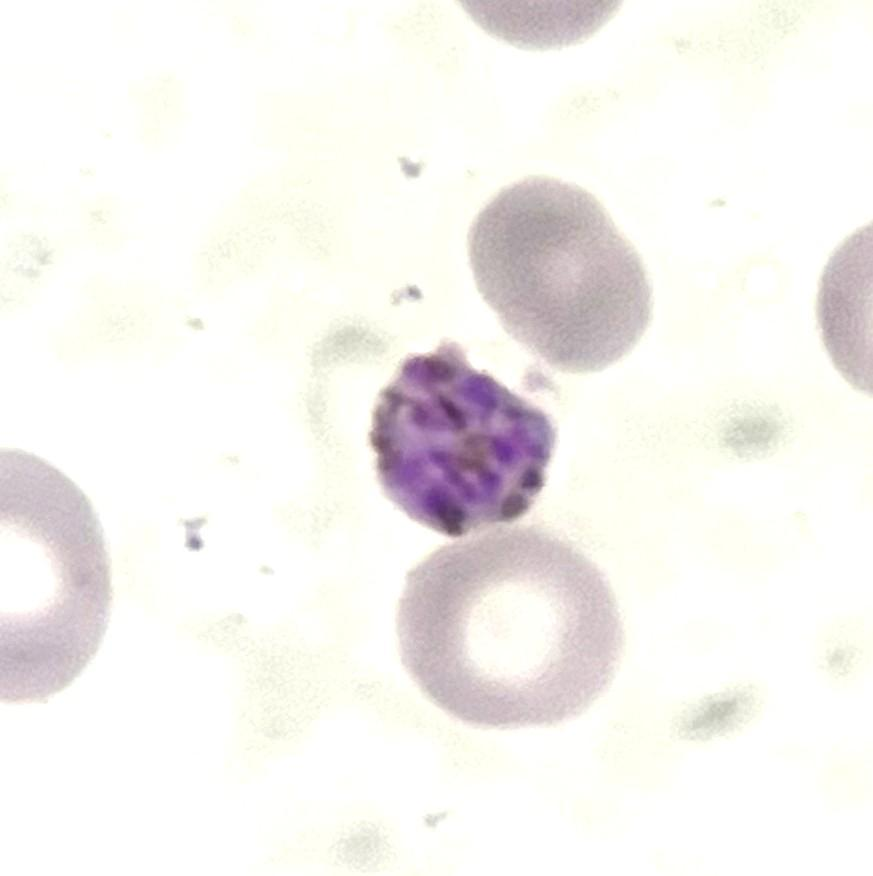Infected: (368, 347, 559, 540)
Uninfected: (404, 541, 625, 727), (464, 175, 660, 378)
